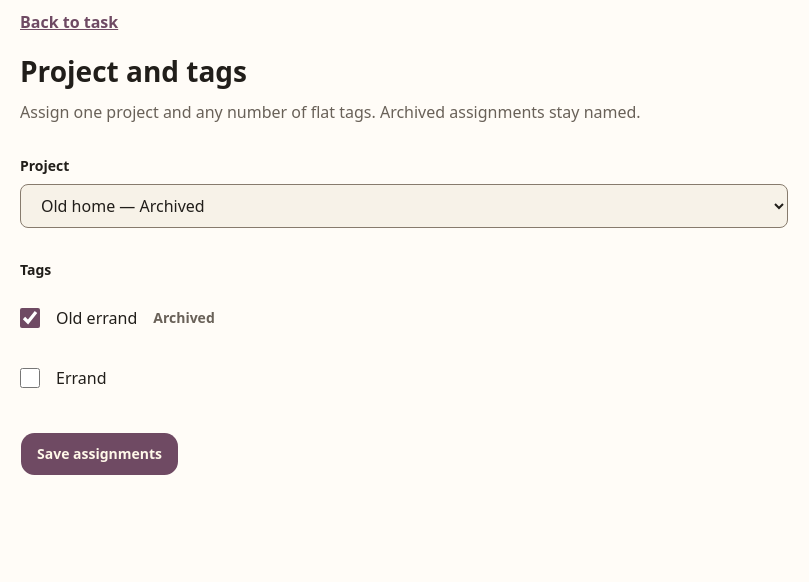
Test: organization assignment fields › keeps a stale conflict visible and preserves the chosen IDs
This screenshot has width=809, height=582.
Select "Home" in the dropdown labelled "Project" at point(404, 206), box [20,184,788,228]
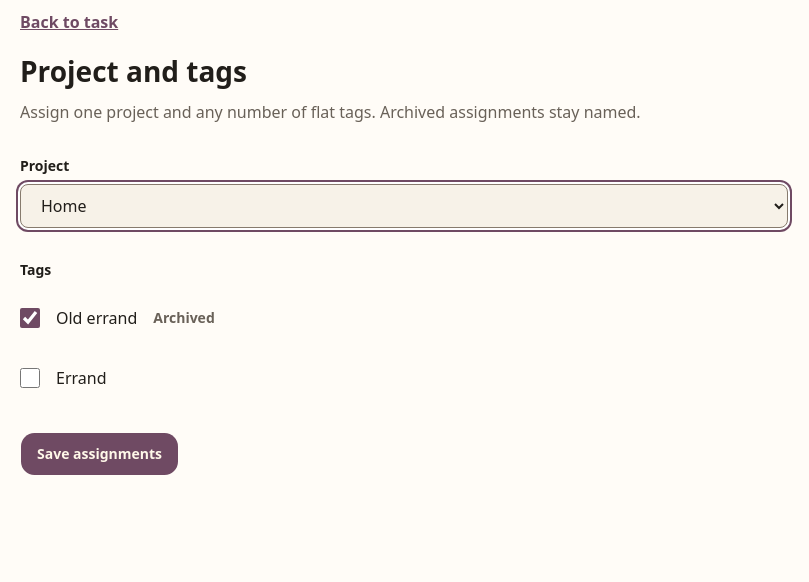
Click the button "Save assignments".
click(100, 454)  # box [20,432,179,476]
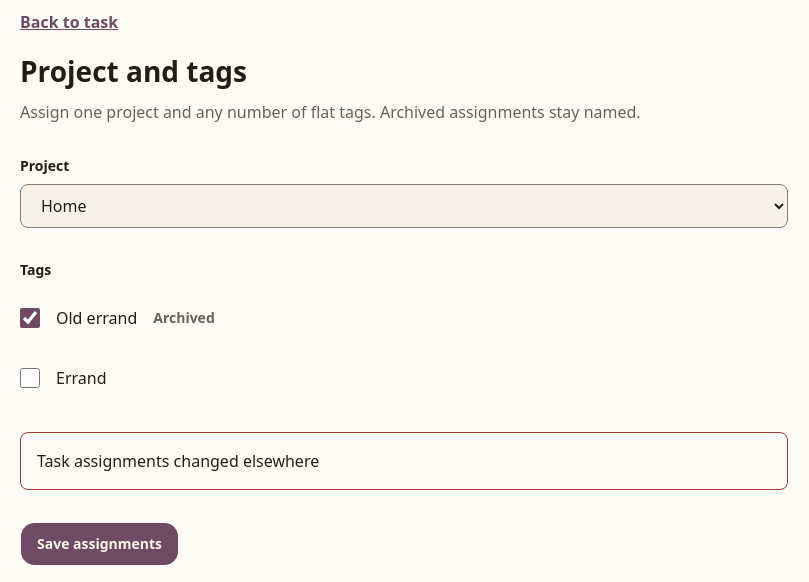
Now the message reads "Task assignments changed elsewhere", box [37,450,319,472]
